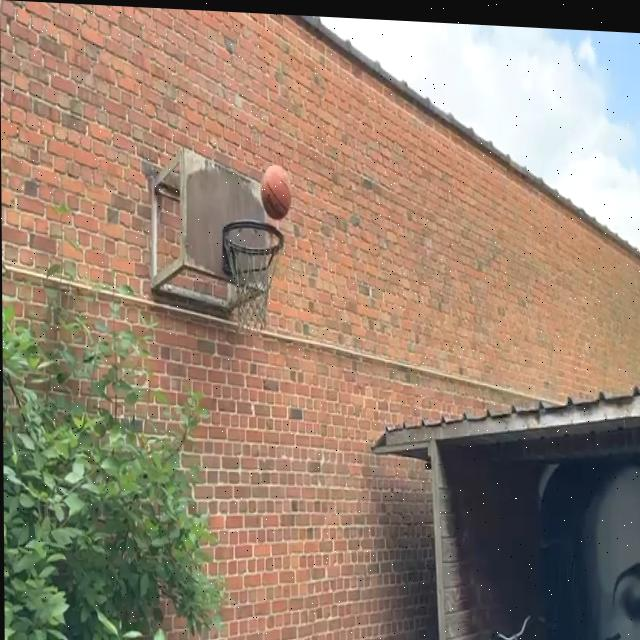Basketball: (261, 165, 291, 221)
